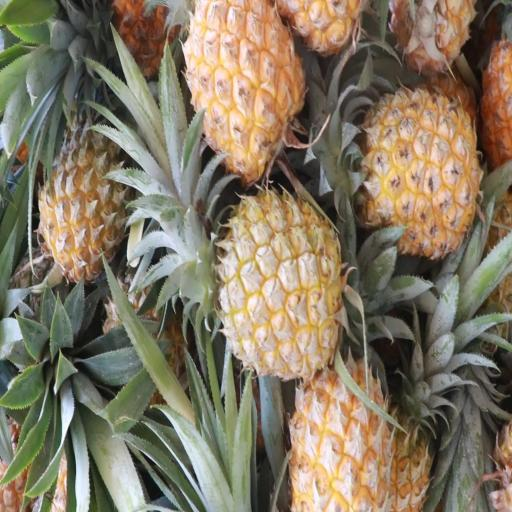Pineapple - v8 v1: (200, 178, 338, 380), (336, 86, 482, 258), (288, 295, 398, 512), (170, 0, 290, 175), (38, 96, 128, 285)
